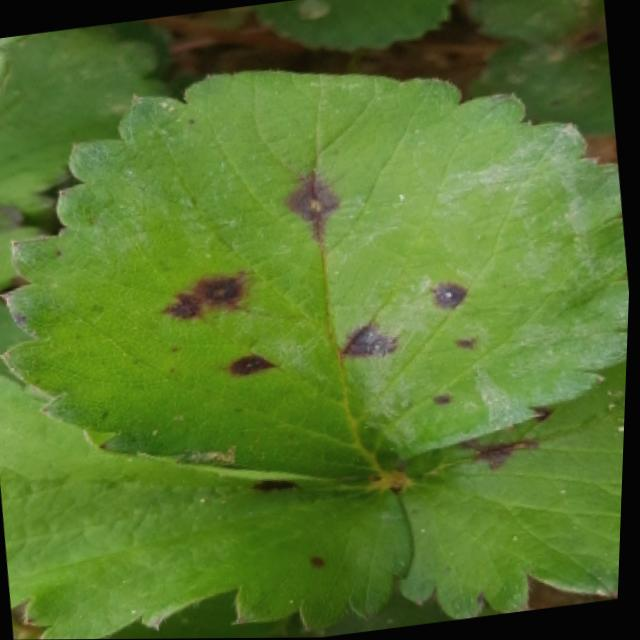Leaf Spot: (0, 67, 631, 485), (0, 372, 416, 640), (402, 362, 629, 620), (469, 0, 605, 49)
